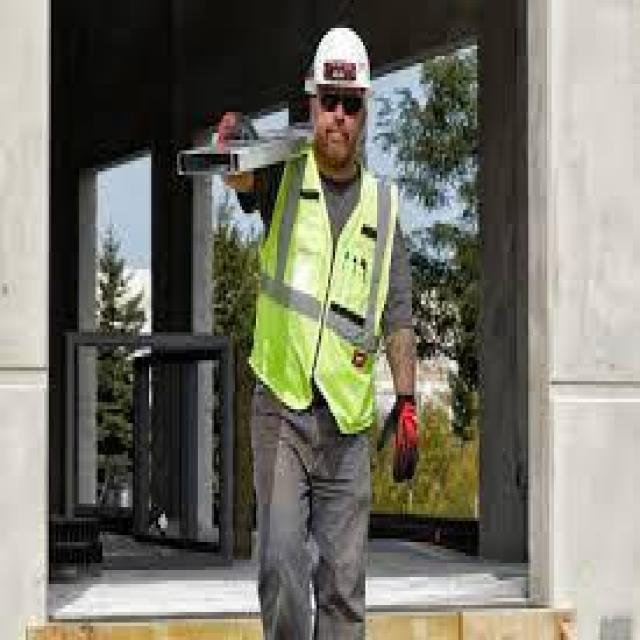helmet: (312, 28, 372, 87)
